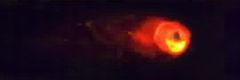keyhole: (171, 29, 184, 44)
